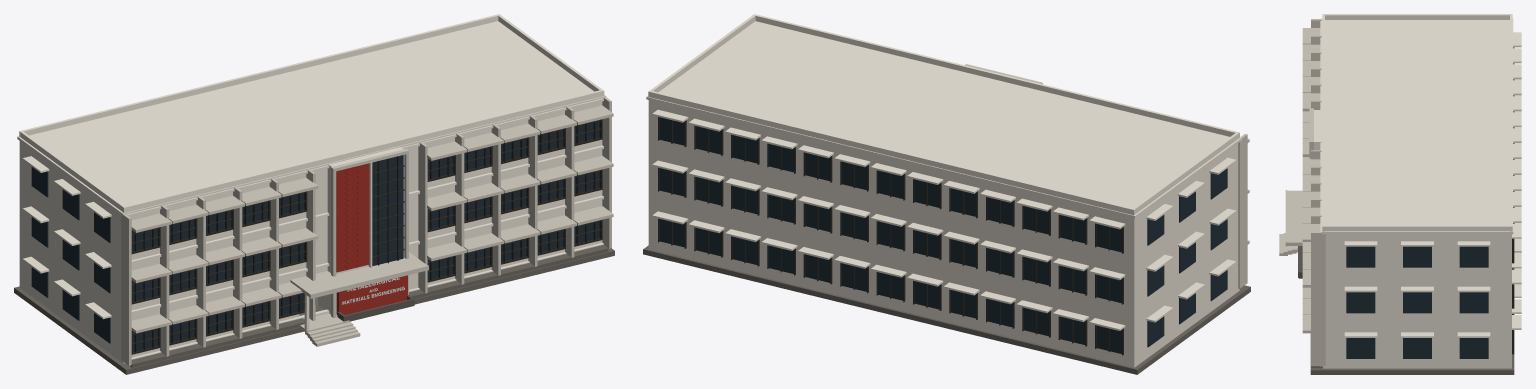
File: iit_kgp_metallurgy_dept.glb
3 views of the same model, side by side, from view 1: azimuth 30°, elevation 25°; view 2: azimuth 150°, elevation 25°; view 3: azimuth 270°, elevation 25° (orthographic). The views are drawn at different scales.
Parts seen in each view (by area): view 1: IIT Kharagpur Department of Metallurgical and Materials Engi; view 2: IIT Kharagpur Department of Metallurgical and Materials Engi; view 3: IIT Kharagpur Department of Metallurgical and Materials Engi.
Boxes of the visible parts, bbox=[...] form: IIT Kharagpur Department of Metallurgical and Materials Engi: bbox=[14, 14, 614, 374]; IIT Kharagpur Department of Metallurgical and Materials Engi: bbox=[643, 14, 1250, 374]; IIT Kharagpur Department of Metallurgical and Materials Engi: bbox=[1279, 14, 1521, 374].
Bounding box in the file's own units: 41.45 × 12.97 × 19.27.
